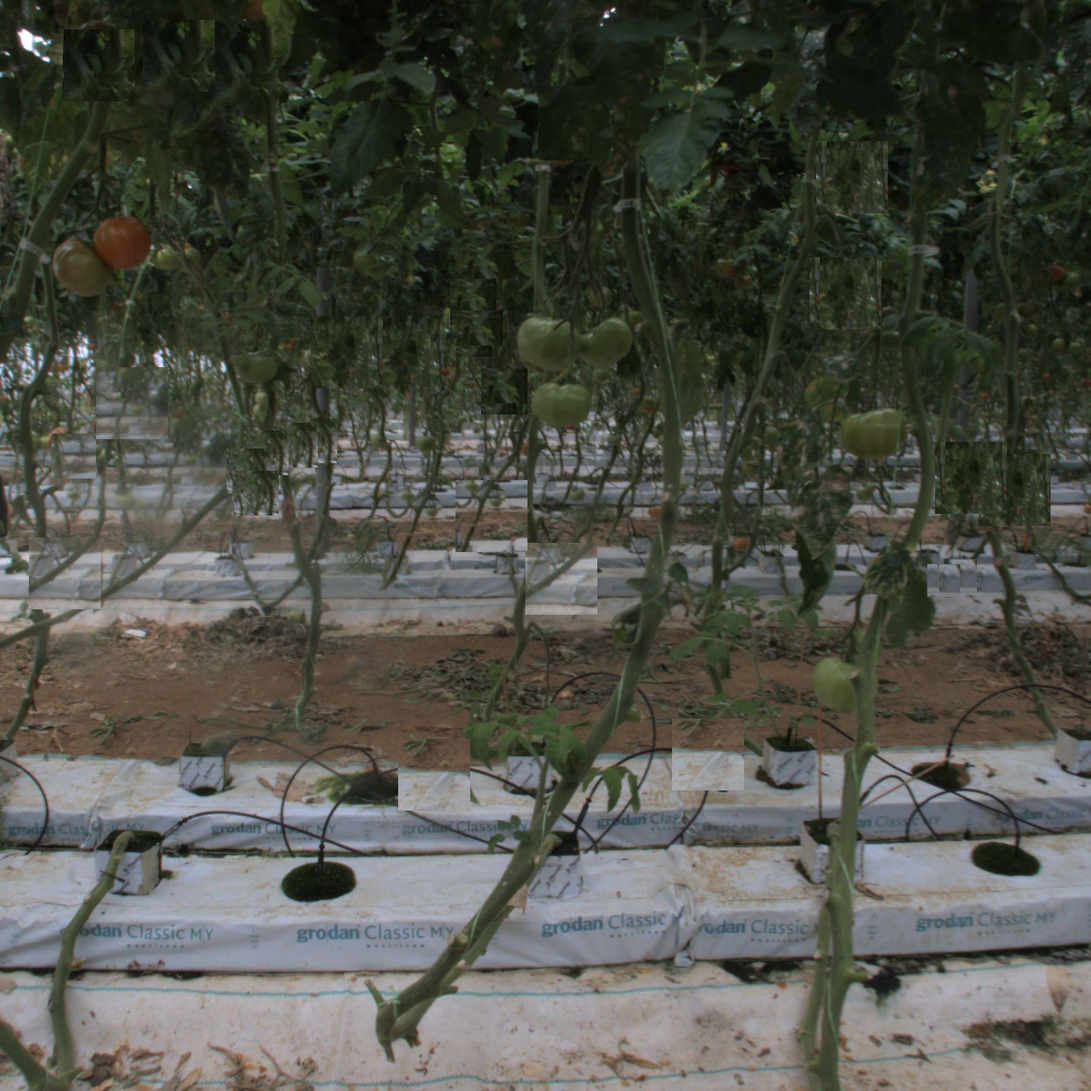fully-ripe: (94, 212, 151, 269)
semi-ripe: (54, 237, 111, 294)
unripe: (812, 654, 869, 711), (533, 373, 590, 430), (844, 402, 901, 459), (518, 311, 574, 368), (583, 317, 631, 365), (237, 343, 276, 382)
